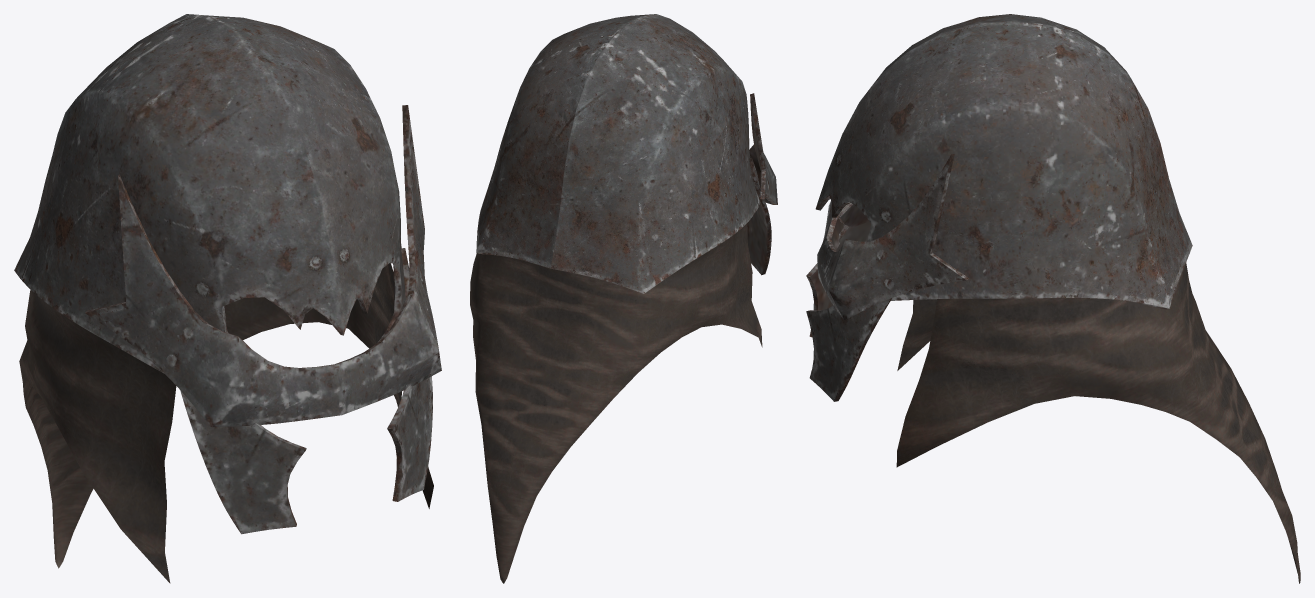
Rendered from sk_gb_uruk_helmet_heavy_f.fbx.
The picture shows the model from 3 angles, left to right: view 1: azimuth 30°, elevation 25°; view 2: azimuth 150°, elevation 25°; view 3: azimuth 270°, elevation 25°; orthographic projection. The views are drawn at different scales.
Visible parts, largest first — view 1: sk_gb_uruk_helmet_heavy_f; view 2: sk_gb_uruk_helmet_heavy_f; view 3: sk_gb_uruk_helmet_heavy_f.
Boxes of the visible parts, x1,y1,x2,y2 form: sk_gb_uruk_helmet_heavy_f: (14,14,441,583); sk_gb_uruk_helmet_heavy_f: (470,14,777,583); sk_gb_uruk_helmet_heavy_f: (806,14,1300,583).
Bounding box in the file's own units: 0.2562 × 0.3859 × 0.4836.
1 material, 1 textured.
